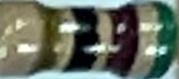Black: (61, 8, 101, 71)
Brown: (104, 3, 134, 78)
Green: (146, 2, 173, 78)
Side-Gold: (30, 3, 63, 75)
